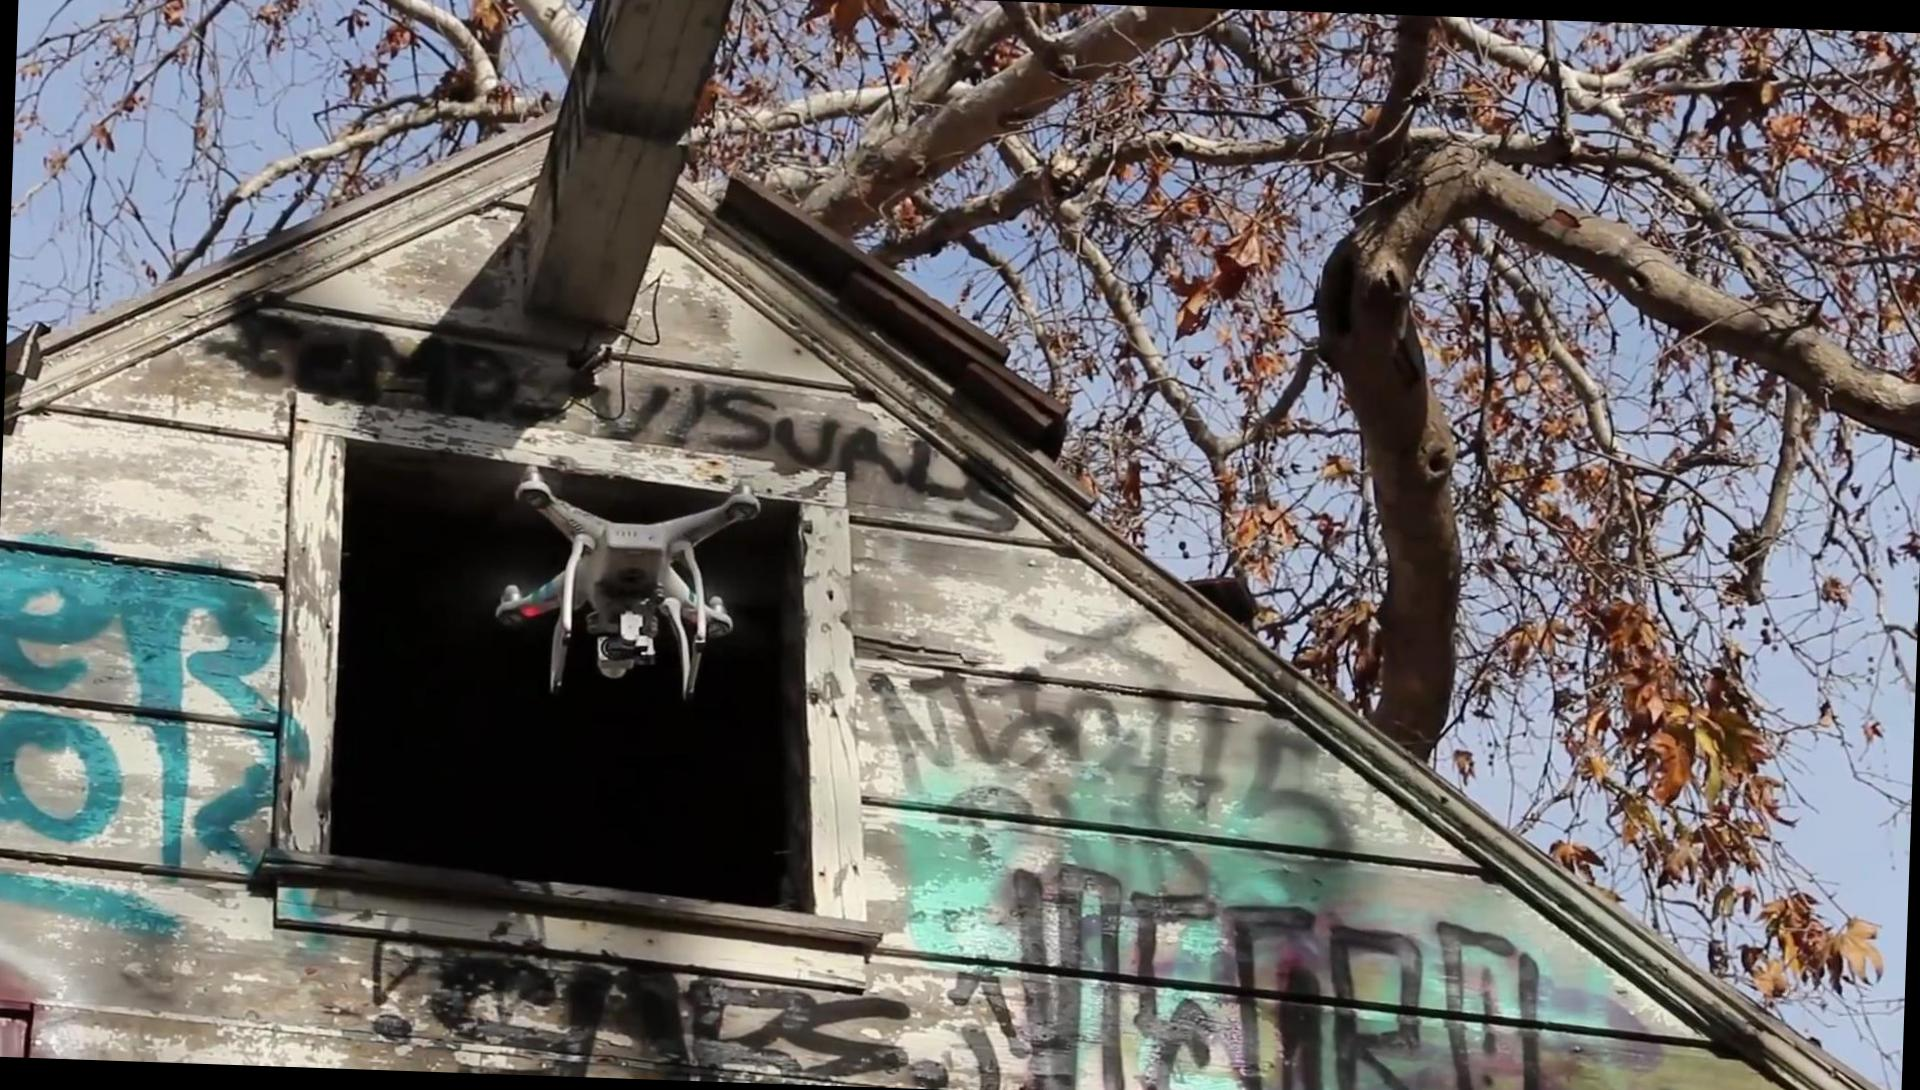drone: (492, 457, 770, 706)
